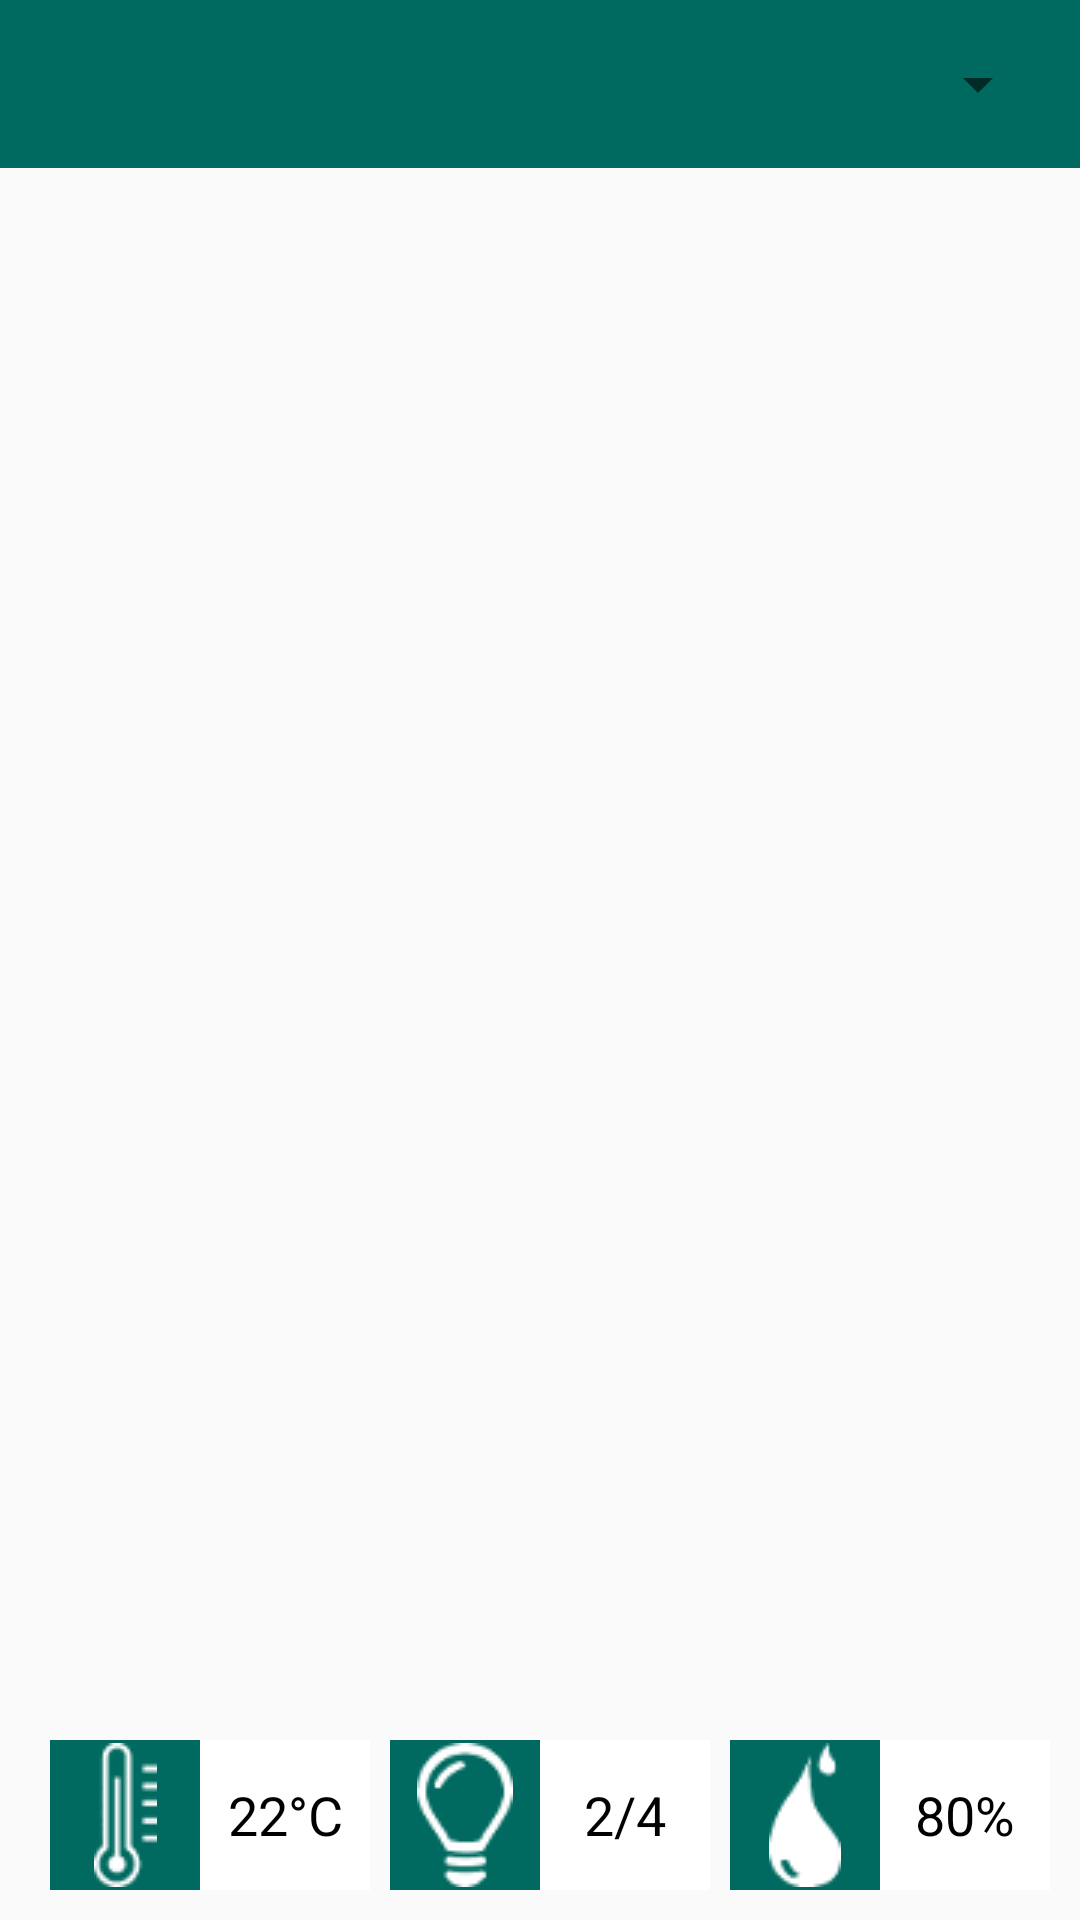

Where icons sit on this 1080 × 1920 app screen, as bbox=[x1, y1, x2, y2]:
humidity: bbox=[730, 1740, 880, 1890]
luminosity: bbox=[390, 1740, 540, 1890]
temperature: bbox=[50, 1740, 200, 1890]
